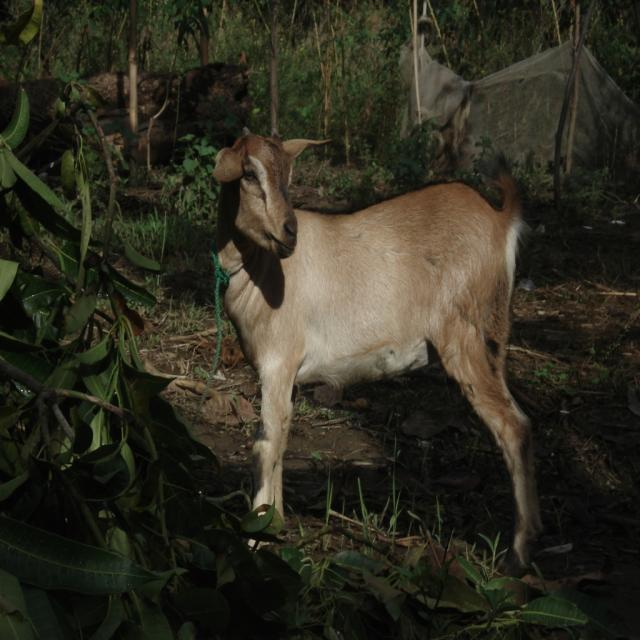Goat: (211, 127, 543, 574)
